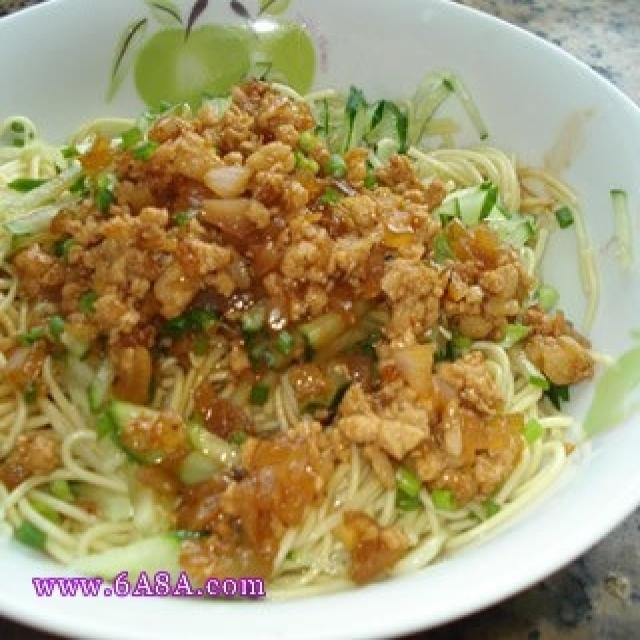面条主食: (2, 0, 634, 625)
